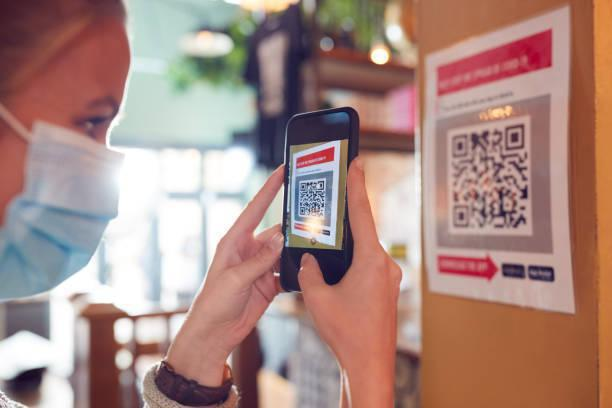qr_code: (451, 124, 529, 229), (299, 181, 325, 216)
